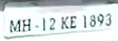character: (9, 19, 21, 33), (21, 18, 31, 32), (60, 15, 68, 29), (69, 15, 77, 29), (96, 13, 104, 27), (104, 12, 111, 27), (48, 17, 56, 30), (89, 14, 96, 28), (40, 16, 46, 31), (82, 14, 88, 29)
